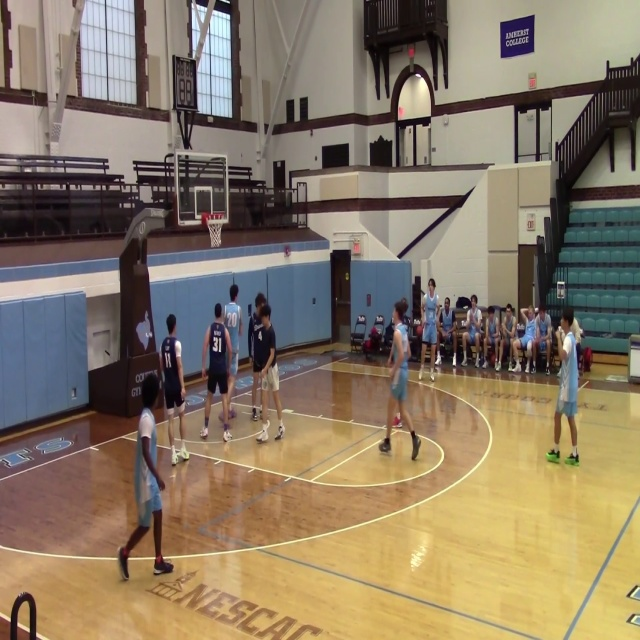Basketball: (392, 414, 401, 427)
